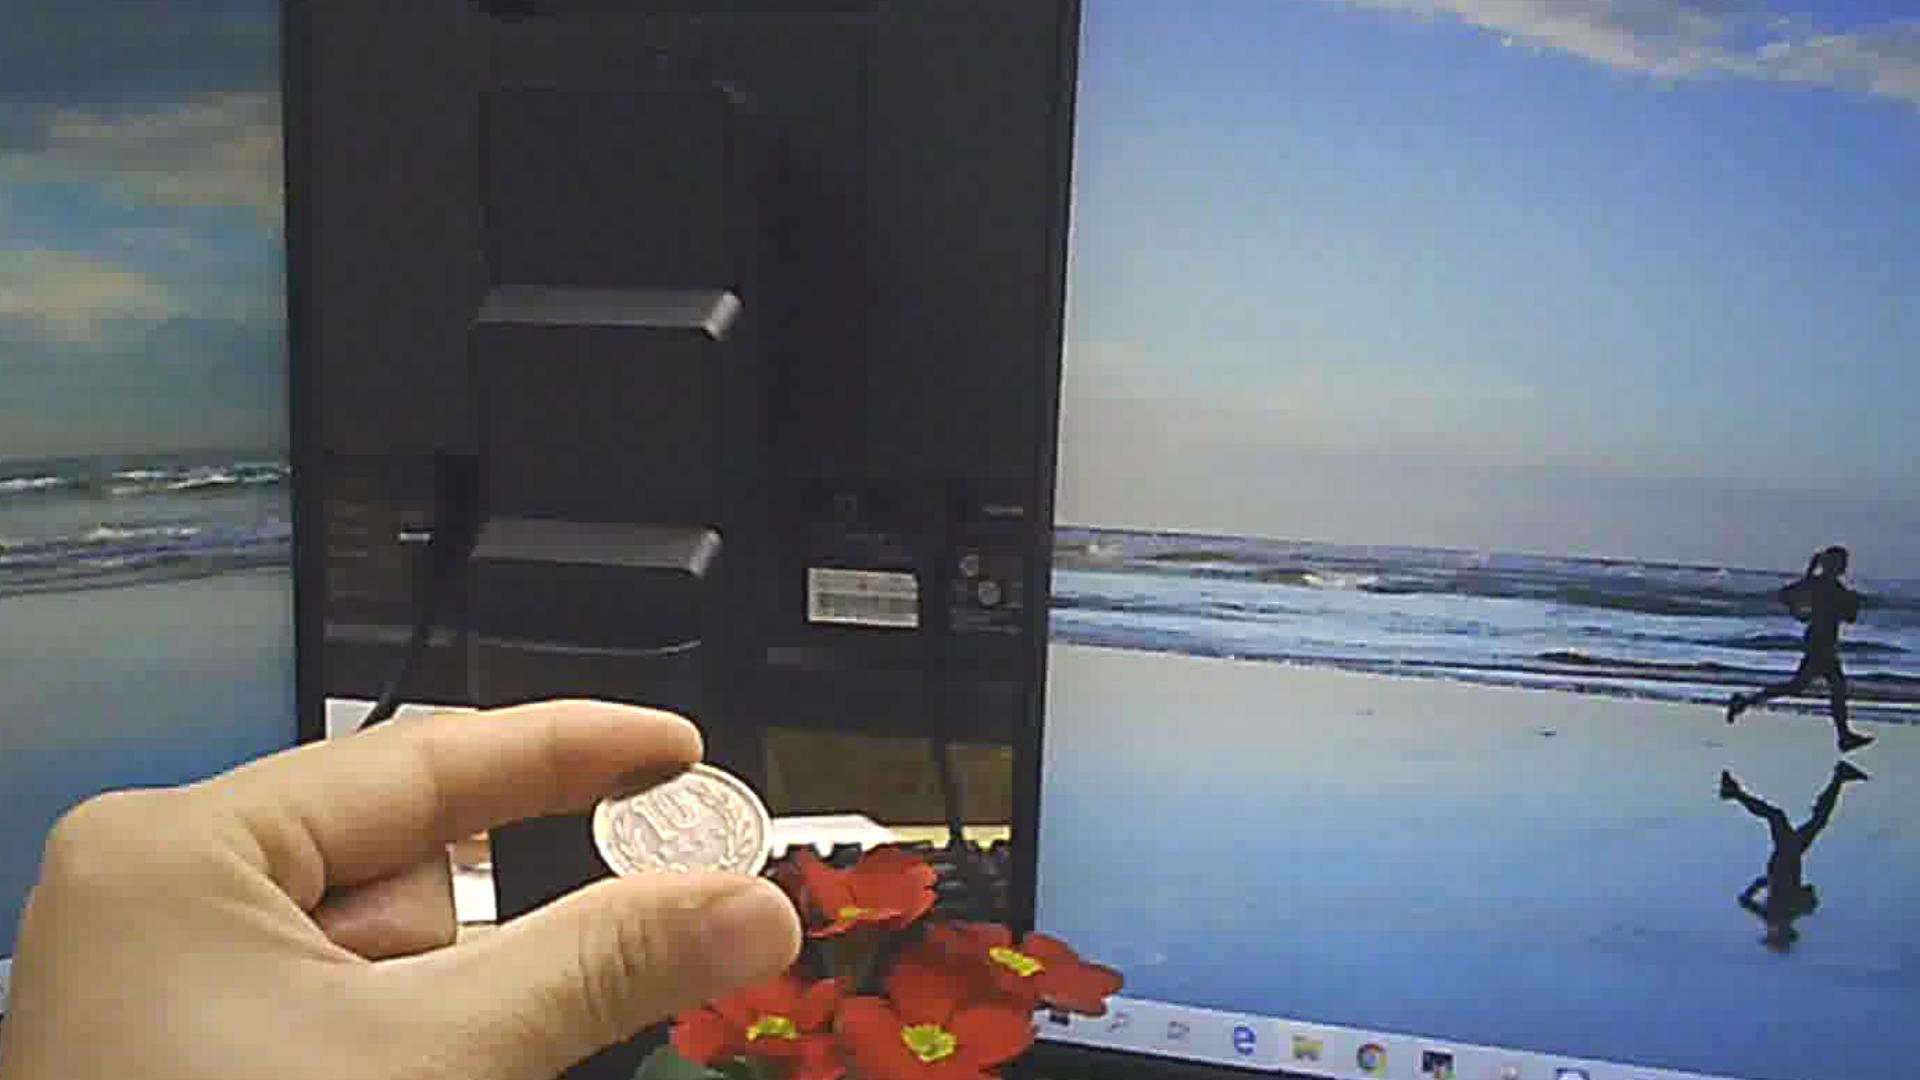10 Yen: (579, 752, 781, 902)
